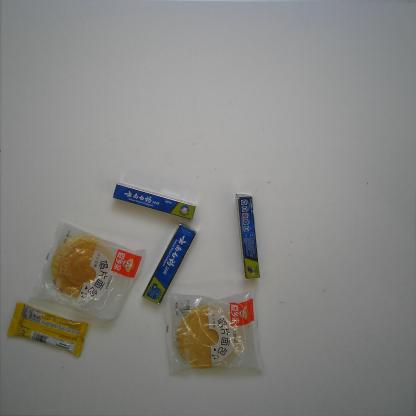Chocolate: (6, 301, 89, 358)
Dessert: (28, 216, 146, 321), (164, 290, 266, 376)
Personal Hygiene: (142, 222, 196, 305), (112, 182, 197, 221), (236, 193, 260, 280)
